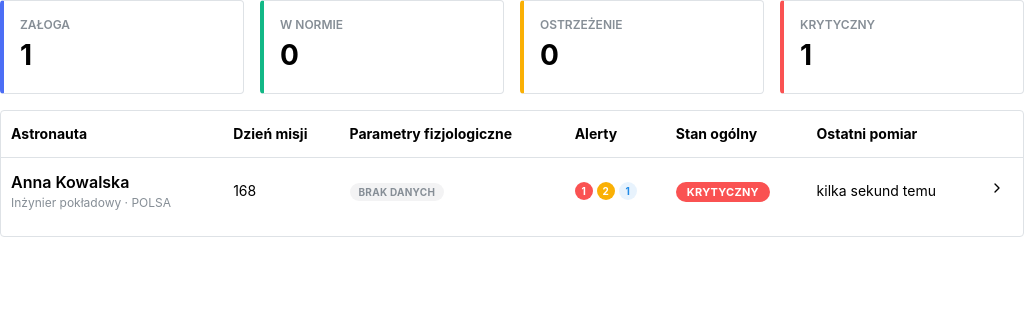
Test case: profile tooltip in the supervisor view (crew table) › opens on hover and keeps opening the profile on click
Later steps or results of the test are not shown.
Hover over the button with test id "astronaut-profile-trigger".
mouse_move(91, 191)  # box [11,170,171,212]
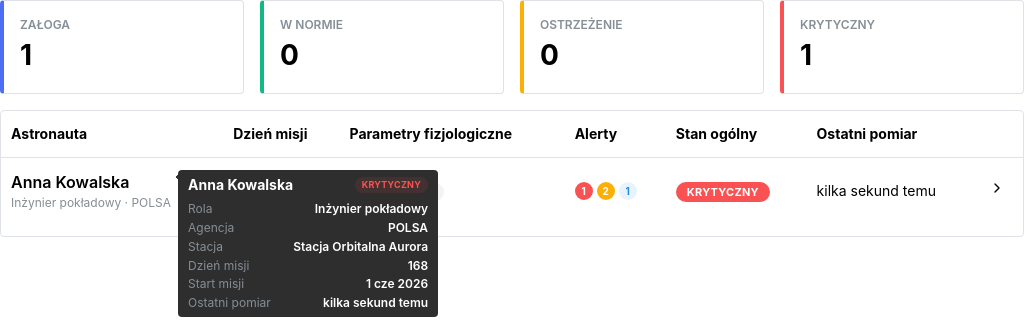
Expected: the tooltip shows "Start misji", [188,276,244,291]
Expected: the tooltip shows "168", [408,258,428,273]
